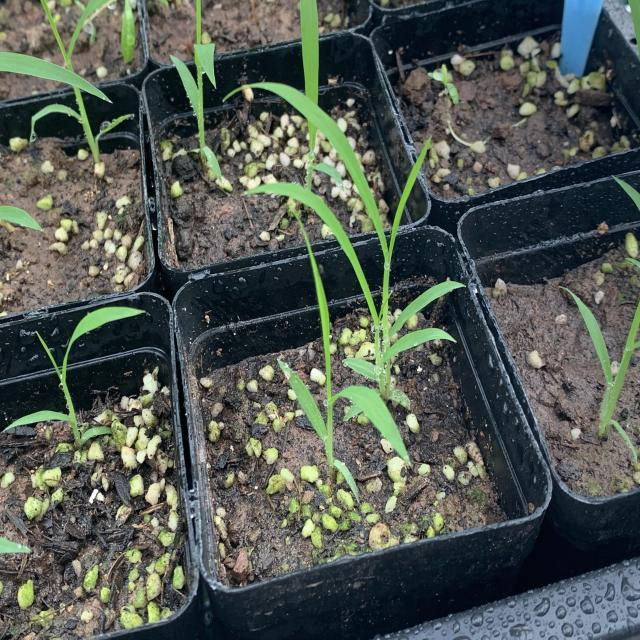crabgrass: (270, 72, 452, 372), (246, 243, 417, 480), (15, 299, 141, 466)
